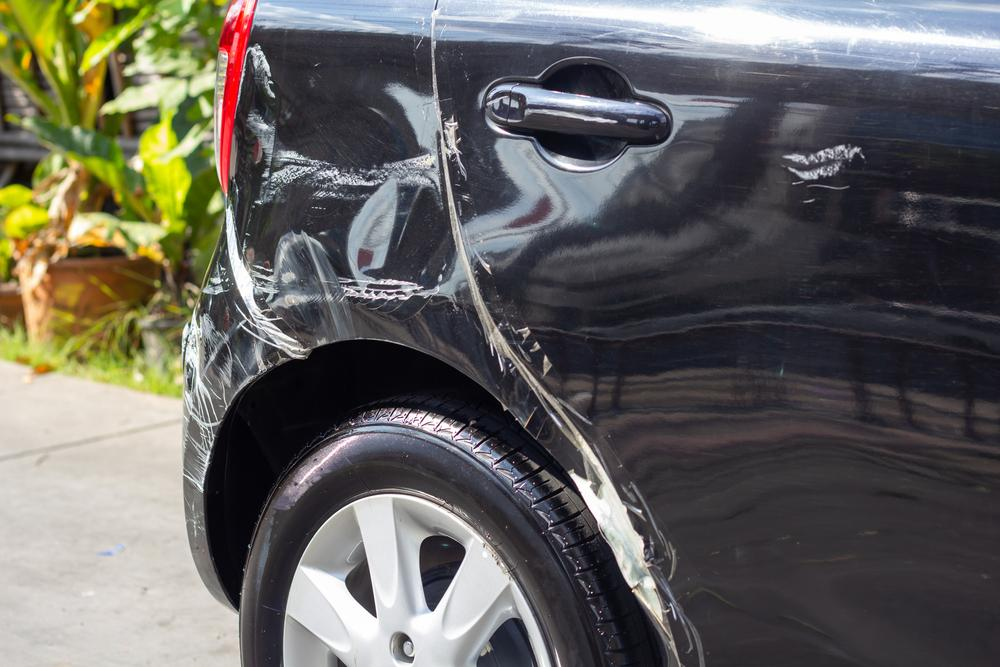scratch: (172, 35, 451, 487), (770, 138, 868, 206)
